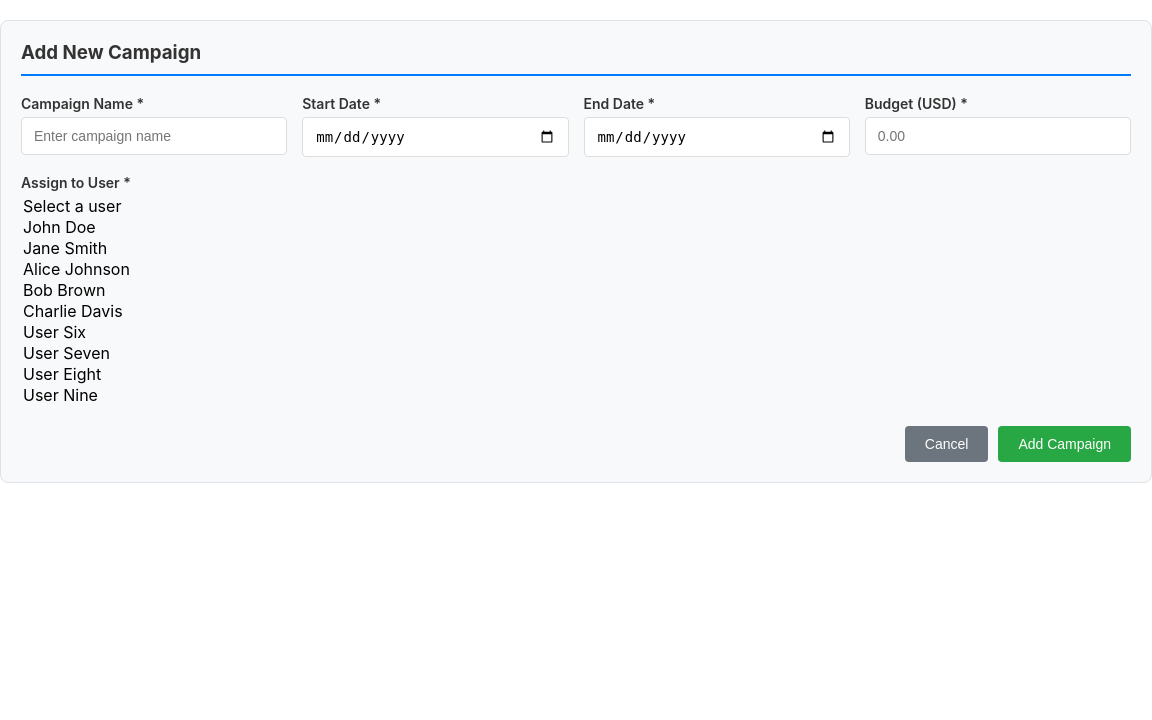
<CampaignForm /> › shows validation errors when submitting empty form
Click the button "Add Campaign".
click(1065, 444)  # box [998,426,1131,462]
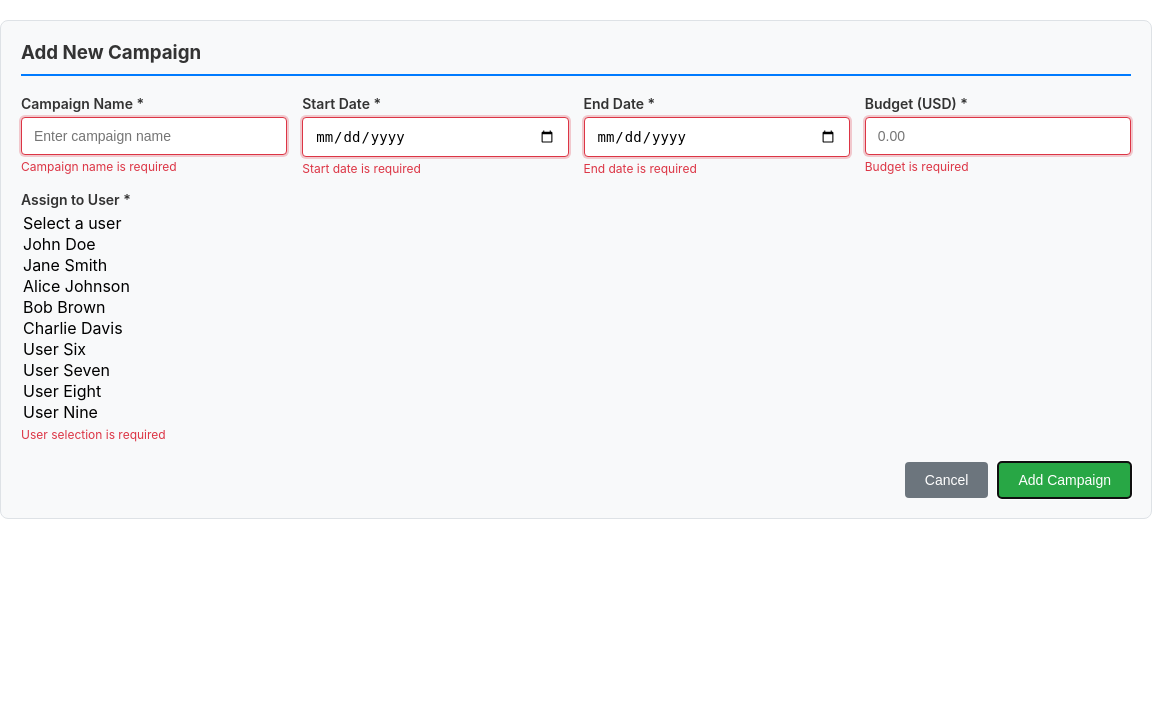
Expected: the text "Campaign name is required" is shown, [21,159,177,174]
Expected: the text "Start date is required" is shown, [302,161,421,176]
Expected: the text "End date is required" is shown, [584,161,697,176]
